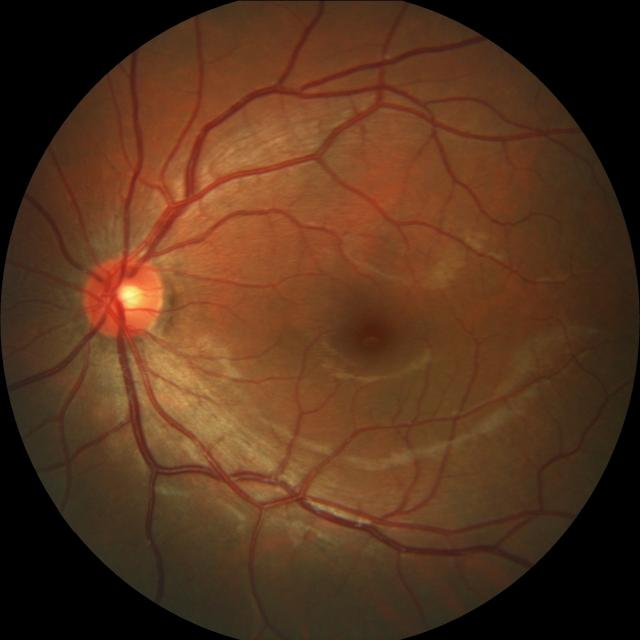OC: (113, 278, 144, 312)
OD: (84, 252, 166, 339)
